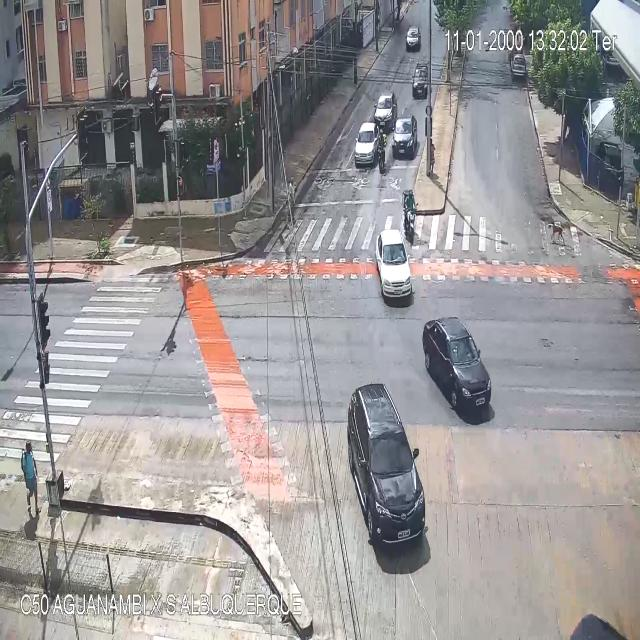Car: (349, 382, 426, 546), (423, 316, 491, 417), (377, 231, 412, 298), (392, 118, 417, 156), (355, 123, 378, 164), (374, 91, 396, 121), (413, 65, 429, 97), (406, 27, 422, 52), (510, 54, 527, 76)
Motorcycle: (402, 189, 415, 239), (378, 131, 386, 171)
